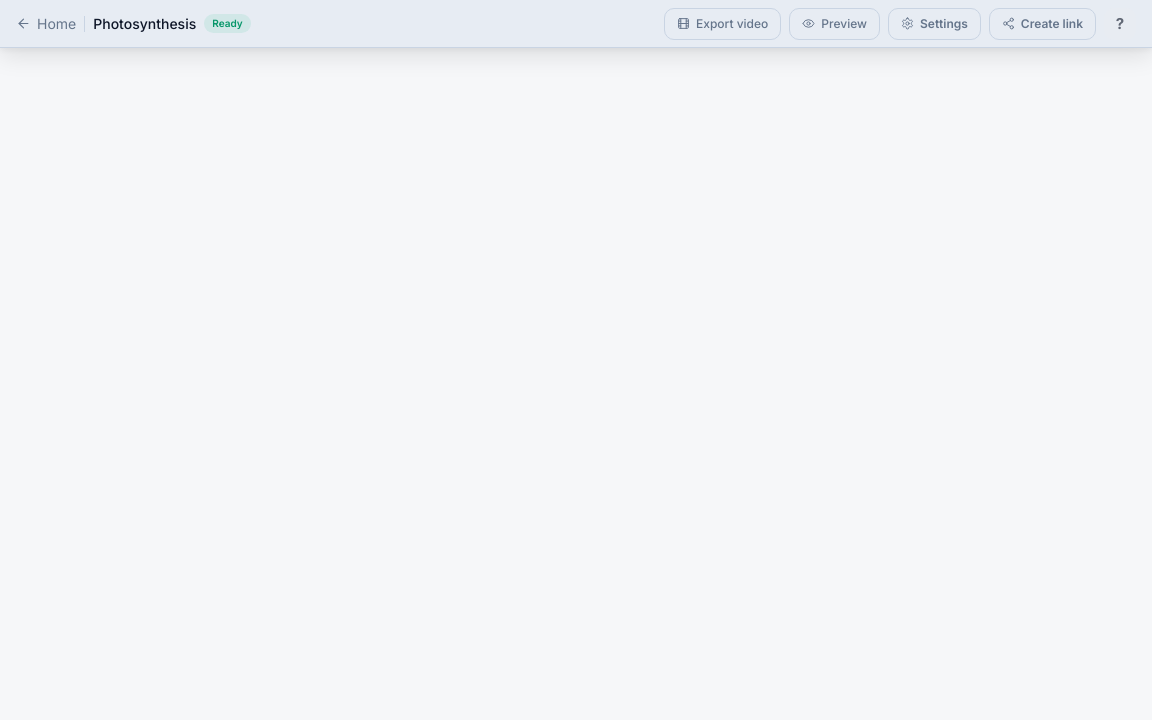
Test: start → poll → ready → download › names the phase in human words and reports the row's progress while in flight
Step 1. Click the button "Export video" → (723, 24), box x1=664 y1=8 x2=781 y2=40
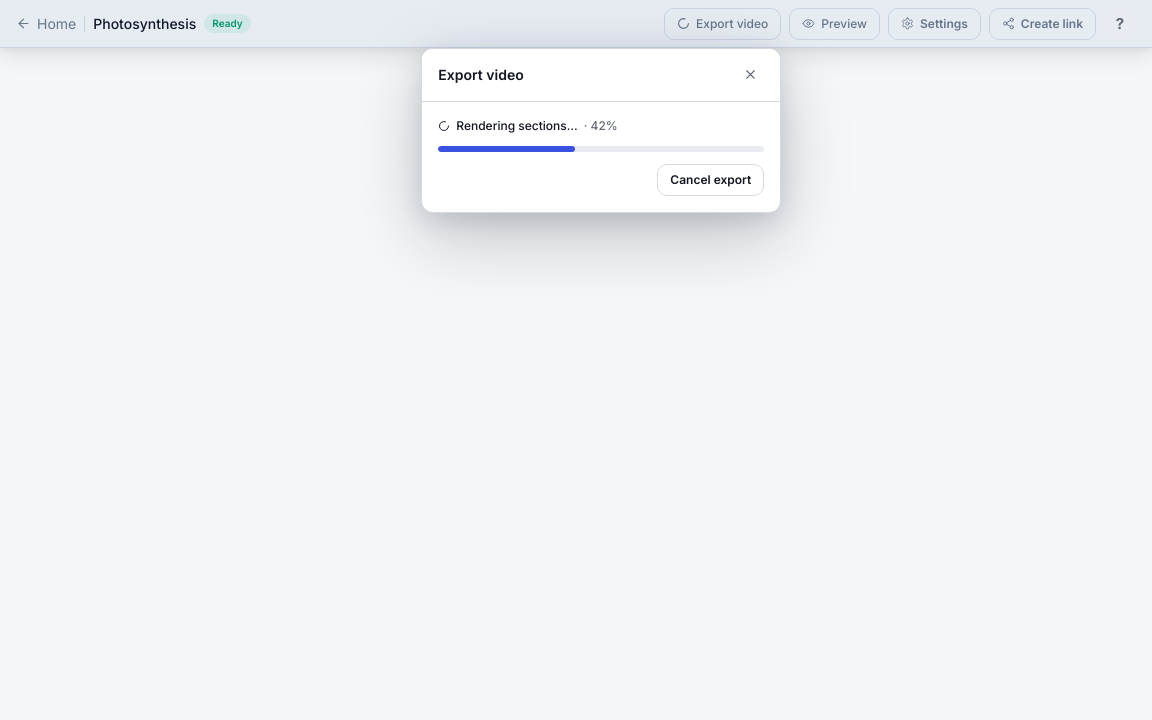
Check: the text "Rendering sections…" is shown, box x1=456 y1=118 x2=578 y2=132
Check: the button "Cancel export" is shown, box x1=657 y1=164 x2=764 y2=196
